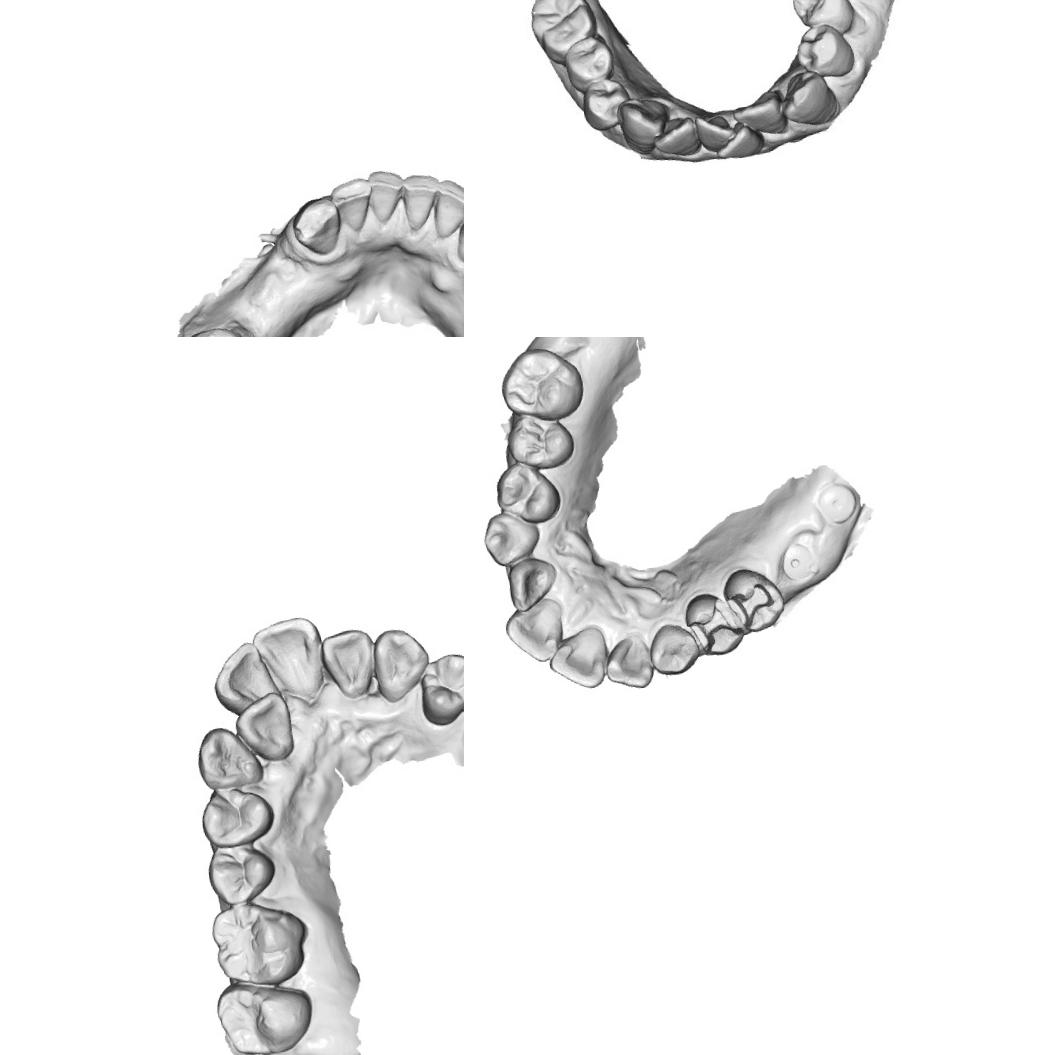canine: (367, 622, 437, 706), (190, 721, 268, 796), (480, 508, 543, 569), (288, 193, 344, 259), (613, 93, 670, 155), (646, 620, 702, 678), (782, 72, 839, 126), (445, 197, 464, 265)
implant: (814, 478, 860, 526), (779, 540, 820, 584)
incisor: (246, 609, 334, 714), (209, 638, 292, 734), (317, 618, 379, 702), (232, 691, 297, 766), (545, 624, 613, 693), (502, 596, 568, 666), (601, 629, 656, 692), (505, 554, 562, 614), (394, 169, 444, 234), (328, 174, 377, 237), (363, 166, 408, 228), (428, 174, 464, 242), (652, 118, 700, 164), (734, 96, 784, 136), (692, 114, 737, 155), (717, 128, 764, 162)
inlay: (683, 595, 743, 655), (722, 577, 778, 631)
molar: (206, 894, 316, 994), (211, 972, 318, 1055), (496, 342, 588, 427), (524, 0, 597, 60)
premolar: (202, 834, 278, 910), (196, 783, 278, 853), (492, 458, 564, 528), (504, 408, 578, 473), (412, 646, 464, 730), (795, 20, 857, 81), (580, 75, 630, 132), (564, 36, 613, 86), (787, 0, 855, 34)
